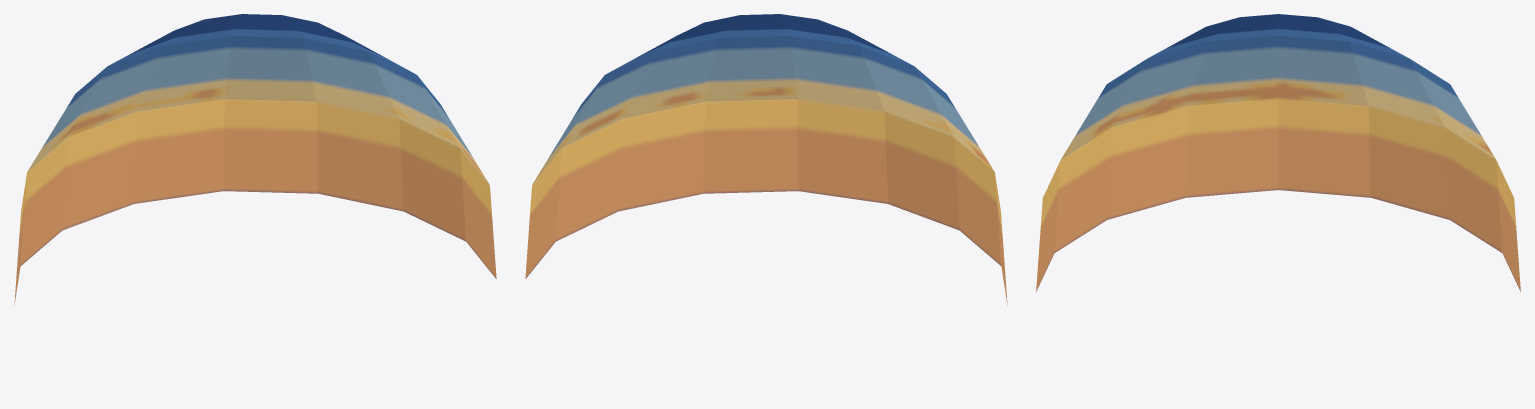
The model's file is wsky.dome.glb.
The picture shows the model from 3 angles, left to right: view 1: azimuth 30°, elevation 25°; view 2: azimuth 150°, elevation 25°; view 3: azimuth 270°, elevation 25°; orthographic projection.
Visible parts, largest first — view 1: kit_shell_sky; view 2: kit_shell_sky; view 3: kit_shell_sky.
Part boxes in pixels (left/top/right/bottom): kit_shell_sky: left=14, top=14, right=496, bottom=305; kit_shell_sky: left=525, top=14, right=1007, bottom=305; kit_shell_sky: left=1036, top=14, right=1520, bottom=291.
Size of the model in its own units: 791 by 460 by 791.
1 material, 1 textured.
